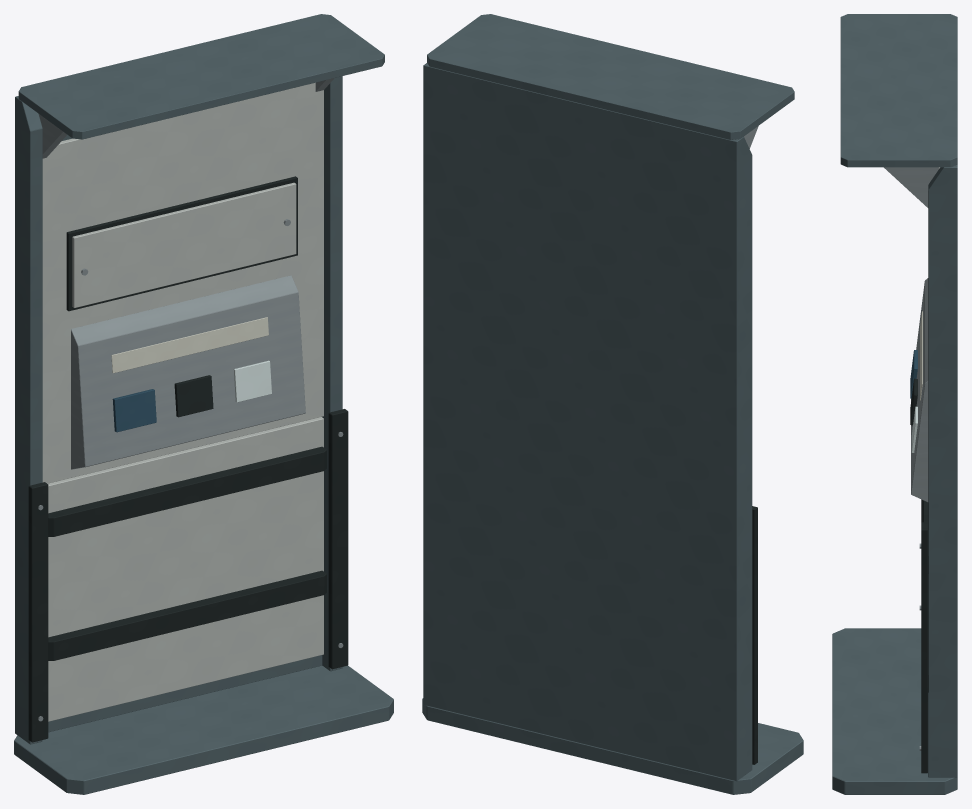
The model's file is AST-LND-003.glb.
3 views of the same model, side by side, from view 1: azimuth 30°, elevation 25°; view 2: azimuth 150°, elevation 25°; view 3: azimuth 270°, elevation 25° (orthographic). The views are drawn at different scales.
Visible parts, largest first — view 1: AST-LND-003__staff_white_paint, AST-LND-003__staff_bluegrey_paint, AST-LND-003__staff_rubber, AST-LND-003__staff_zinc, AST-LND-003__003_service_legend_plaque, AST-LND-003__003_attention_request_pad, AST-LND-003__003_inspection_key_cover, AST-LND-003__003_status_flag_surface; view 2: AST-LND-003__staff_bluegrey_paint, AST-LND-003__staff_rubber; view 3: AST-LND-003__staff_bluegrey_paint, AST-LND-003__staff_zinc, AST-LND-003__staff_rubber, AST-LND-003__003_inspection_key_cover.
Part boxes in pixels (<box>): AST-LND-003__staff_white_paint: <box>42,82,323,721</box>; AST-LND-003__staff_bluegrey_paint: <box>14,14,393,794</box>; AST-LND-003__staff_rubber: <box>28,176,348,742</box>; AST-LND-003__staff_zinc: <box>38,78,343,721</box>; AST-LND-003__003_service_legend_plaque: <box>111,317,268,373</box>; AST-LND-003__003_attention_request_pad: <box>112,389,156,432</box>; AST-LND-003__003_inspection_key_cover: <box>174,375,213,417</box>; AST-LND-003__003_status_flag_surface: <box>233,360,271,402</box>; AST-LND-003__staff_bluegrey_paint: <box>422,14,803,794</box>; AST-LND-003__staff_rubber: <box>752,506,757,764</box>; AST-LND-003__staff_bluegrey_paint: <box>832,14,957,794</box>; AST-LND-003__staff_zinc: <box>884,167,938,750</box>; AST-LND-003__staff_rubber: <box>921,499,928,773</box>; AST-LND-003__003_inspection_key_cover: <box>910,378,917,425</box>.
Bounding box in the file's own units: 1.3 × 2.5 × 0.45.
Materials: 7 (7 with a texture image).
